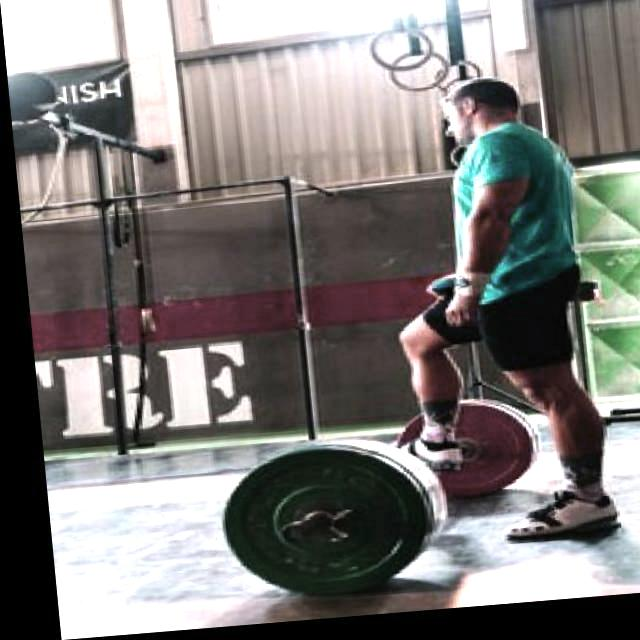barbell: (201, 442, 429, 615)
